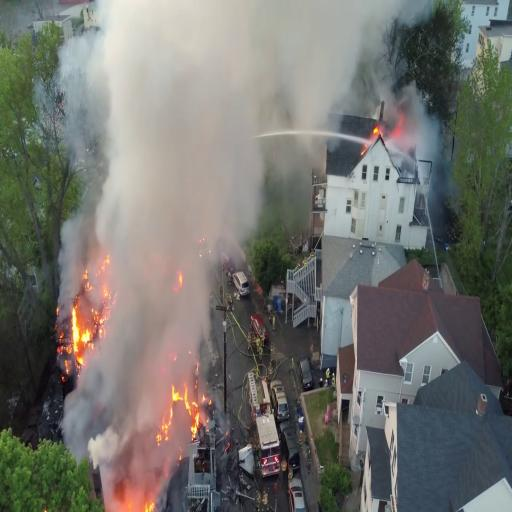fire: (156, 380, 204, 432), (63, 301, 91, 369)
smoke: (125, 14, 185, 302), (100, 414, 161, 479)
